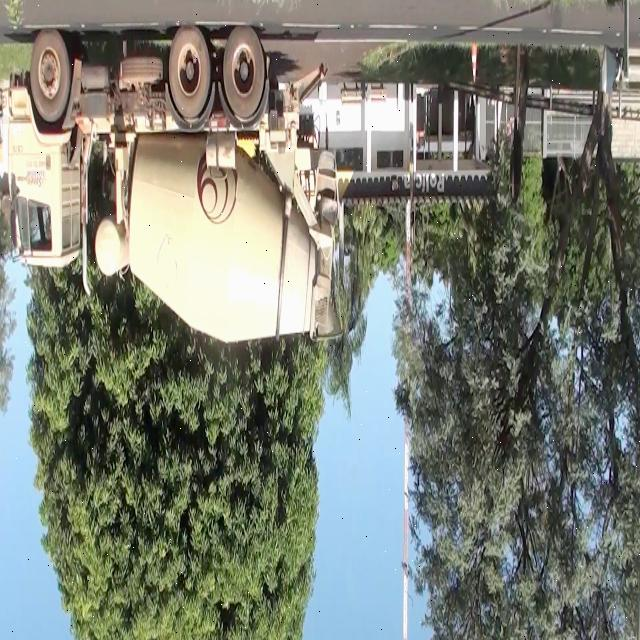-axle: (222, 22, 264, 121), (169, 22, 210, 122), (29, 25, 70, 125)
